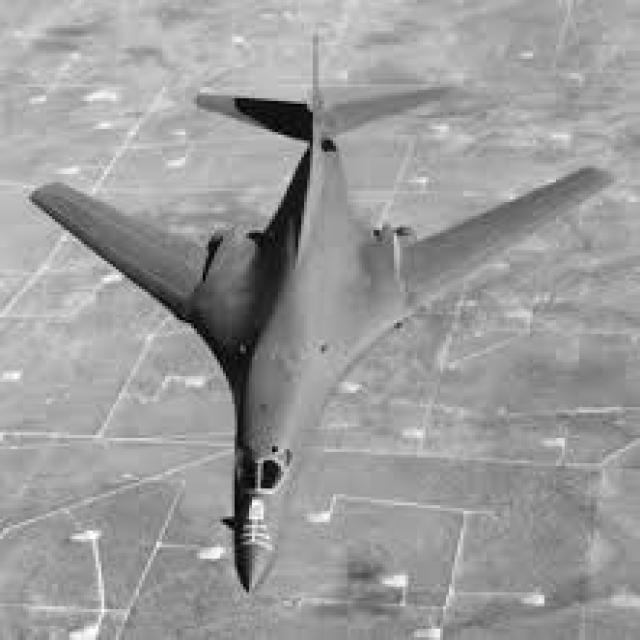B1: (14, 27, 629, 606)
